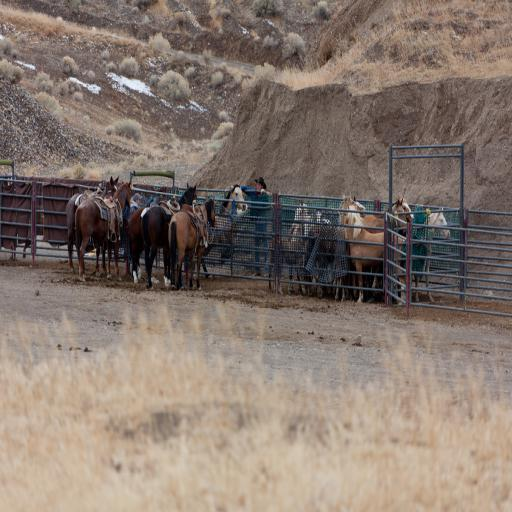horse: (65, 174, 246, 290), (267, 191, 452, 303)
